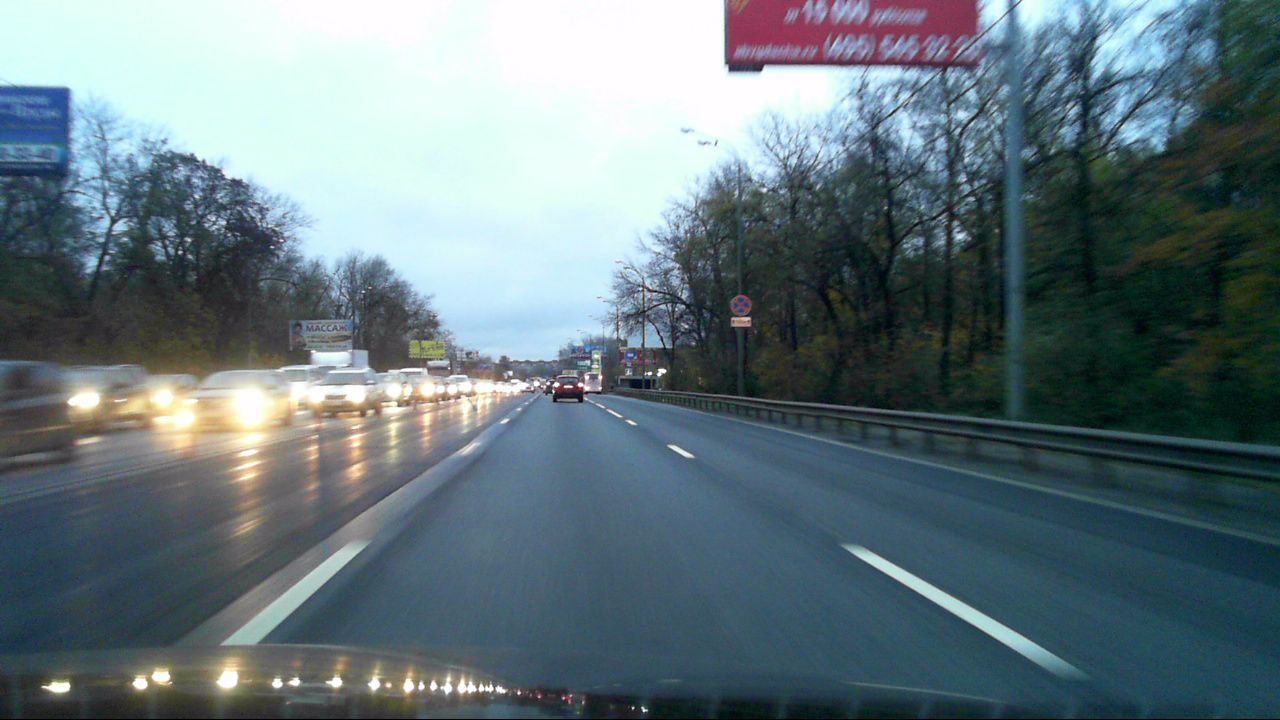No Parking: (730, 295, 750, 316)
